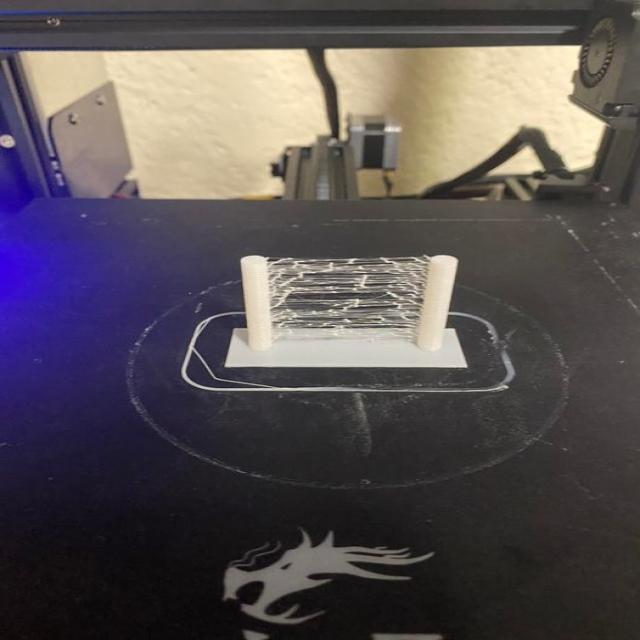stringing: (280, 260, 411, 334)
